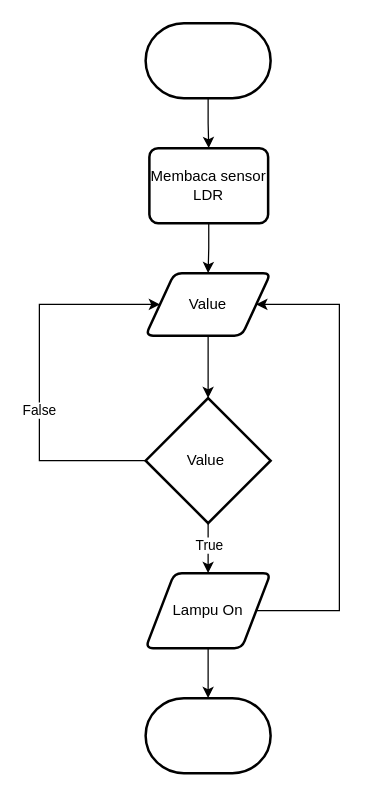
The diagram is 371 pixels wide and 795 high, and some of its shapes have lost their labels. The centre of each missing label's shape, as x and y in pixels:
"Selesai" belongs at (207,735).
"Start" belongs at (207,60).
